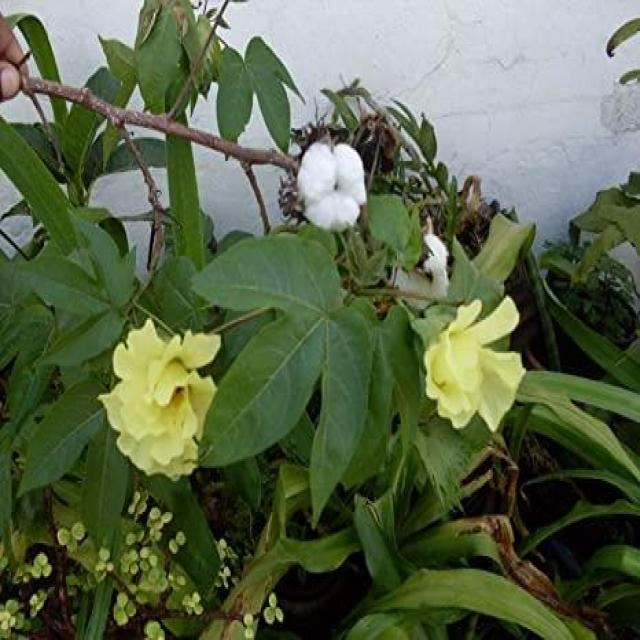Late_blight: (292, 128, 367, 231)
